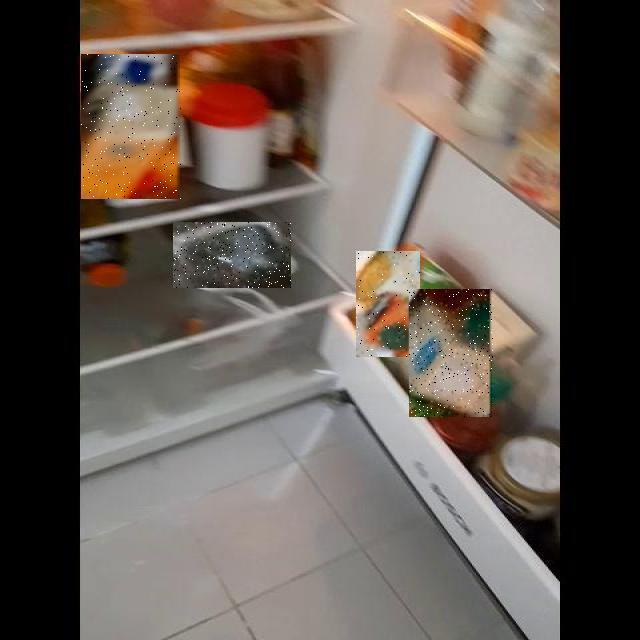Broccoli: (173, 222, 291, 288)
Juice: (356, 251, 420, 357)
Milk: (82, 54, 182, 199), (410, 289, 494, 417)
